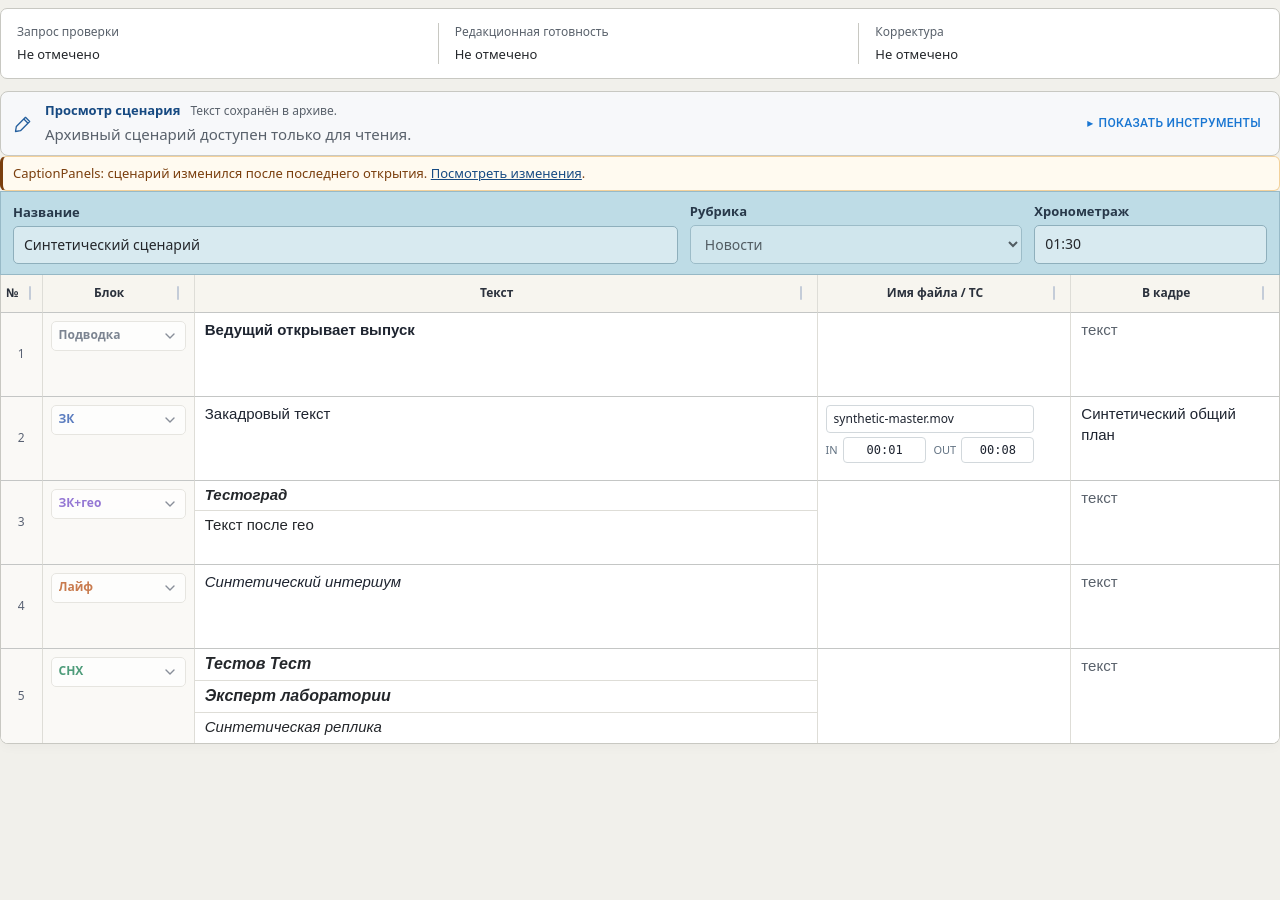
Test: ScenarioEditor current behavior characterization › keeps DOCX export for archived scenarios without an empty formatting toolbar or CaptionPanels regression
This screenshot has width=1280, height=900.
Click the button "Показать инструменты".
click(1174, 124)  # box [1081,109,1267,138]
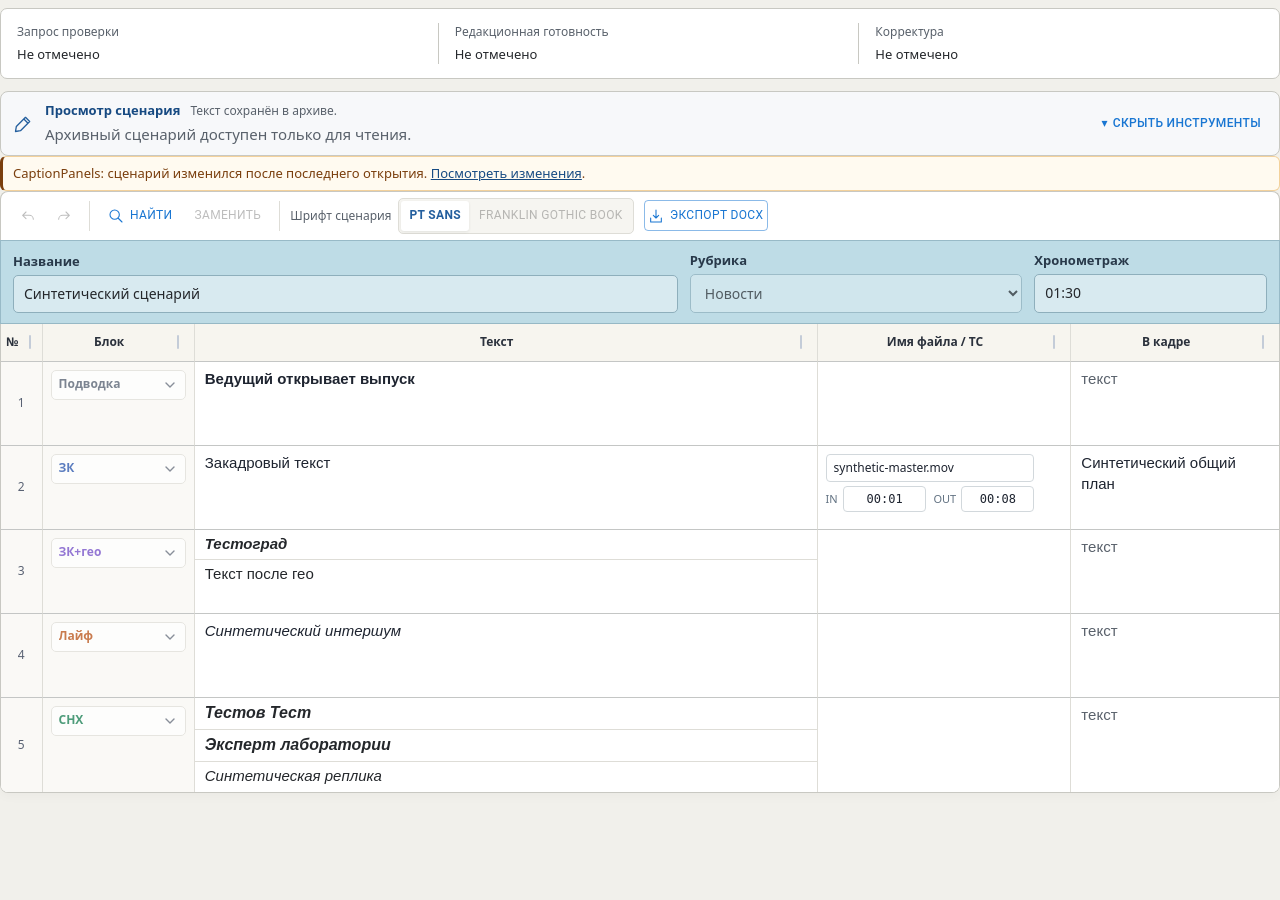
Expected: the 2nd message shows "CaptionPanels: сценарий изменился после последнего открытия.", [13,164,427,182]
Expected: the element "Экспорт DOCX" is shown, [0,191,1279,240]
